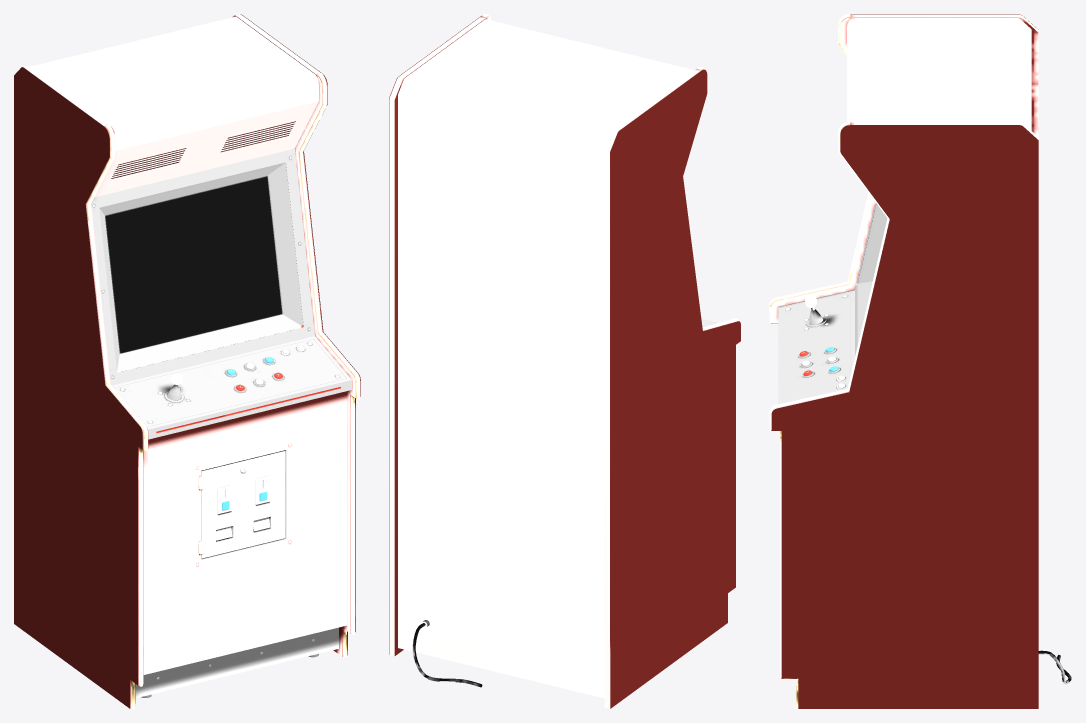
Rendered from cab-saute-survivors-v2.glb.
The picture shows the model from 3 angles, left to right: view 1: azimuth 30°, elevation 25°; view 2: azimuth 150°, elevation 25°; view 3: azimuth 270°, elevation 25°; orthographic projection. The views are drawn at different scales.
Parts seen in each view (by area): view 1: body, side_art_l, screen, glass, trim, metal, side_art_r; view 2: body, side_art_l, side_art_r; view 3: side_art_r, body, trim.
Part boxes in pixels (bbox=[...]): body: bbox=[22, 14, 360, 708]; side_art_l: bbox=[14, 67, 142, 708]; screen: bbox=[105, 176, 281, 352]; glass: bbox=[106, 177, 282, 352]; trim: bbox=[87, 73, 359, 708]; metal: bbox=[93, 156, 339, 697]; side_art_r: bbox=[240, 14, 360, 654]; body: bbox=[389, 16, 738, 708]; side_art_l: bbox=[610, 69, 740, 708]; side_art_r: bbox=[389, 16, 481, 654]; side_art_r: bbox=[771, 125, 1038, 708]; body: bbox=[771, 15, 1038, 411]; trim: bbox=[769, 14, 889, 708].
Size of the model in its own units: 0.783 by 1.94 by 0.9069.
23 materials, 6 textured.
